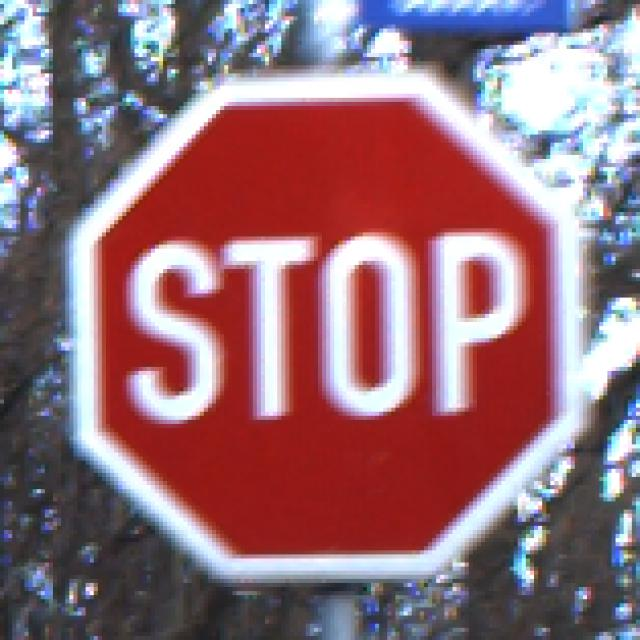STOP: (58, 54, 588, 588)
